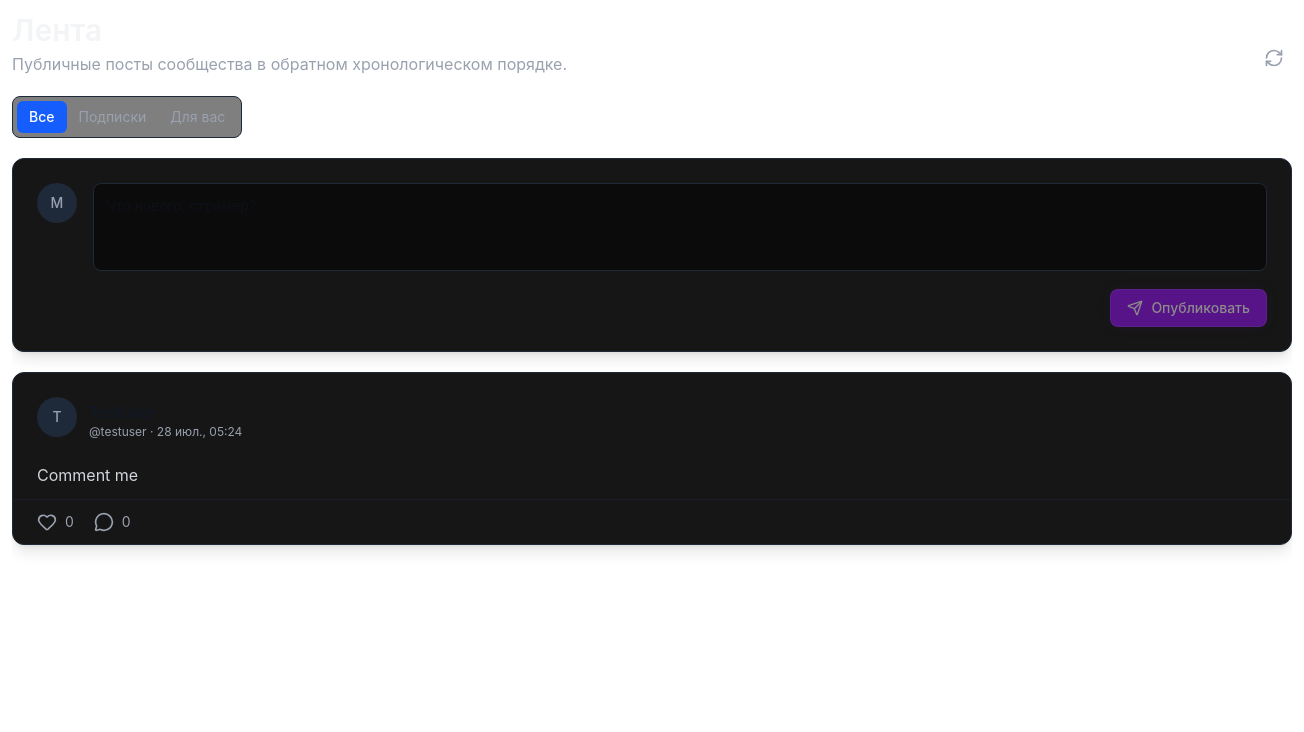
Test: Feed › opens comments, creates a comment, and updates the counter
Expected: the text "Comment me" is shown, [37,465,138,485]
Click the 2nd button "0".
click(112, 522)  # box [94,512,131,532]
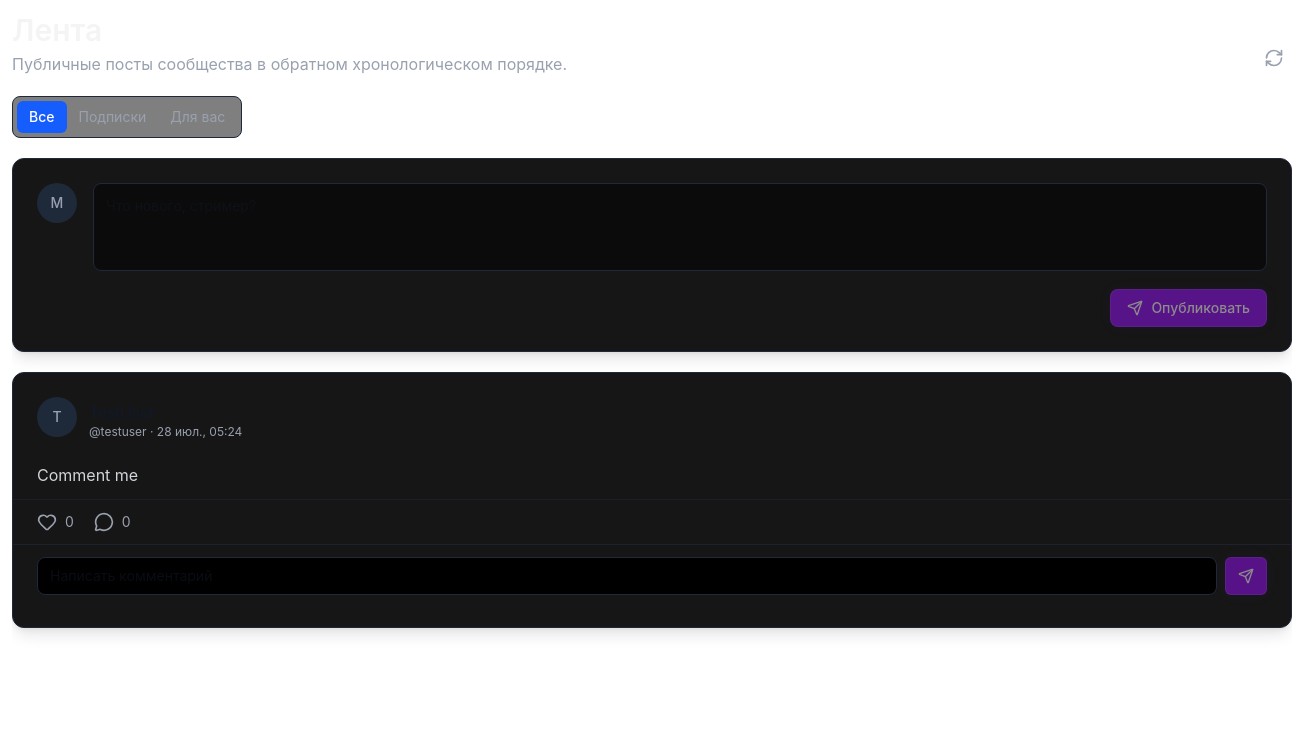
Result: the field with placeholder "Написать комментарий" is shown
Type "Nice" into the field with placeholder "Написать комментарий".
click(627, 576); type("Nice")  # box [37,557,1217,595]
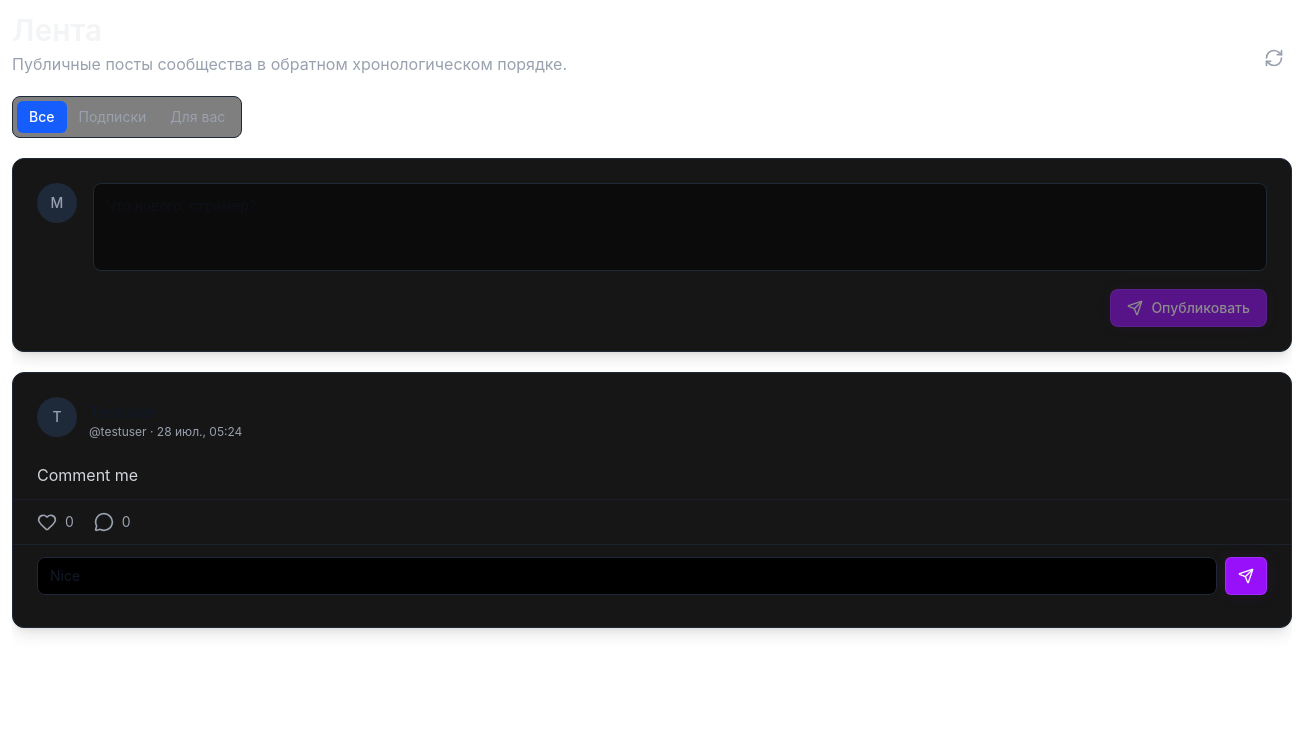
Click the button titled "Отправить комментарий".
click(1246, 576)  # box [1225,557,1267,595]
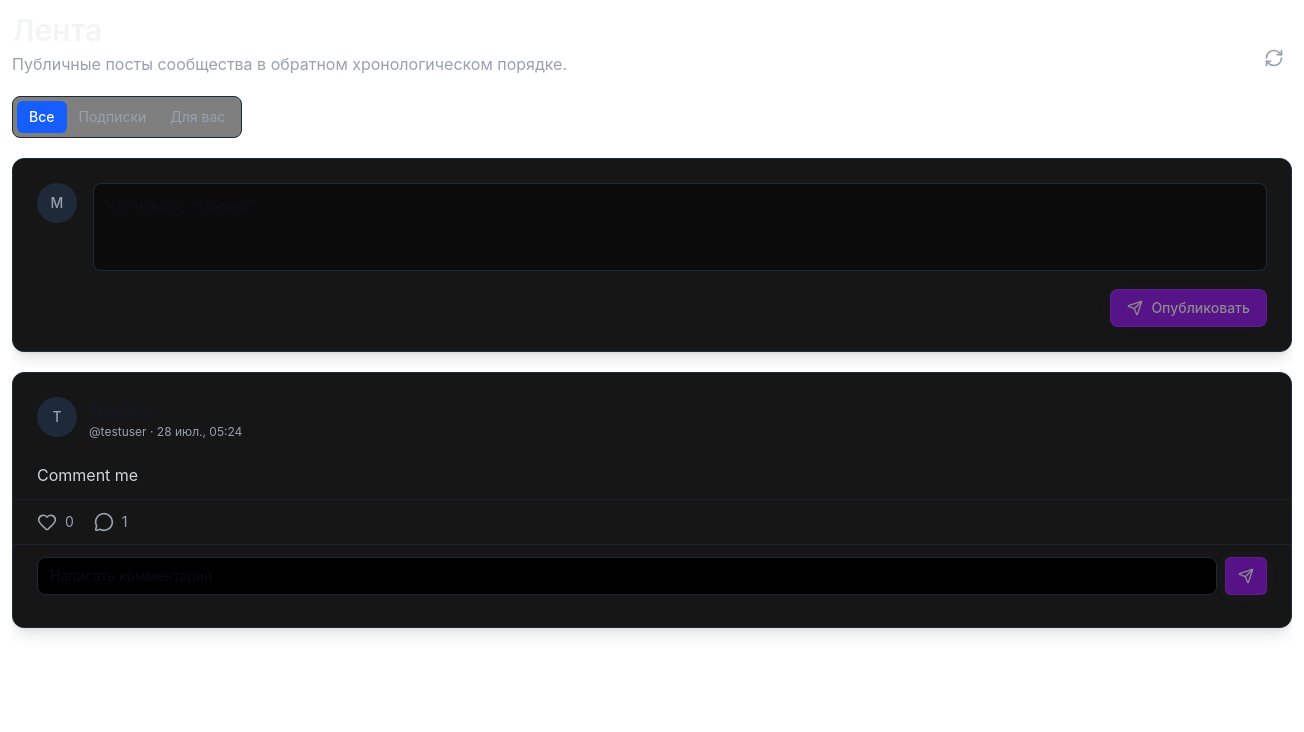
Result: the text "1" is shown at [122,512,128,532]
